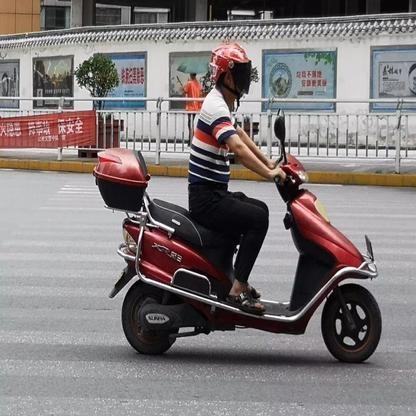target: (89, 40, 384, 363)
